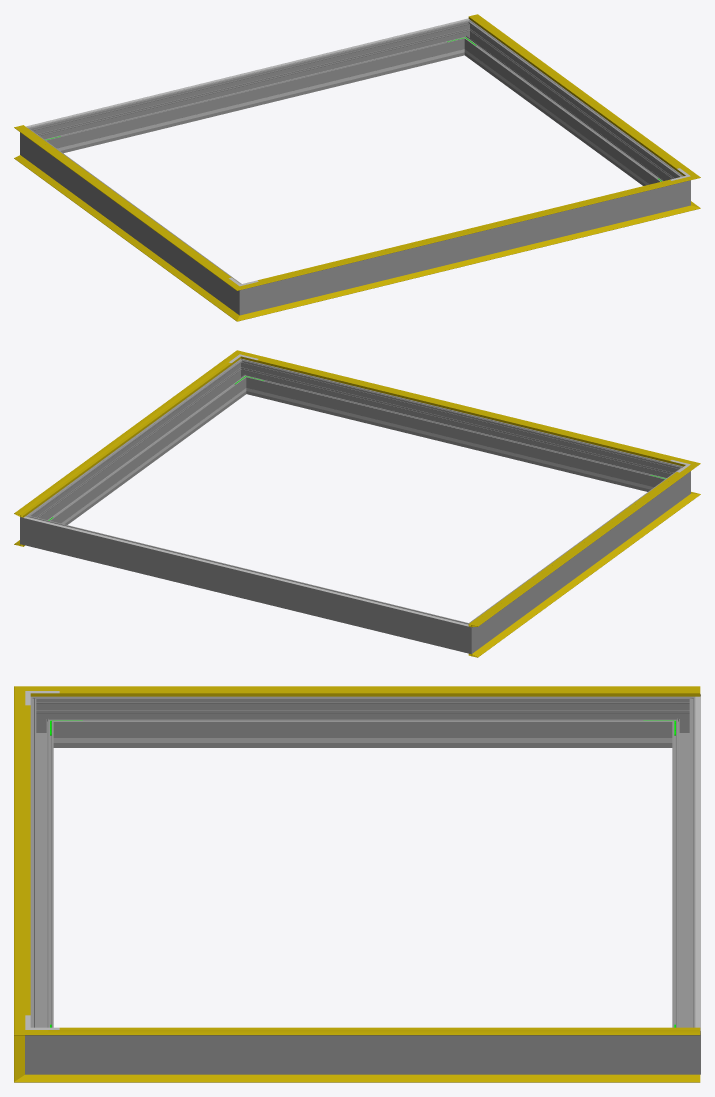
3 views of the same model, one above another, from view 1: azimuth 30°, elevation 25°; view 2: azimuth 150°, elevation 25°; view 3: azimuth 270°, elevation 25° (orthographic). The views are drawn at different scales.
Visible parts, largest first — view 1: 3DGeom-276, 3DGeom-298, 3DGeom-297, 3DGeom-268, 3DGeom-28, 3DGeom-145, 3DGeom-141, 3DGeom-38, 3DGeom-147, 3DGeom-244, 3DGeom-220, 3DGeom-158 (+6 smaller); view 2: 3DGeom-298, 3DGeom-276, 3DGeom-297, 3DGeom-268, 3DGeom-141, 3DGeom-145, 3DGeom-38, 3DGeom-147, 3DGeom-239, 3DGeom-220, 3DGeom-158, 3DGeom-278 (+5 smaller); view 3: 3DGeom-268, 3DGeom-297, 3DGeom-298, 3DGeom-276, 3DGeom-147, 3DGeom-30, 3DGeom-145, 3DGeom-141, 3DGeom-232, 3DGeom-220, 3DGeom-152, 3DGeom-154 (+5 smaller).
Part boxes in pixels (x1,y1,x2,y2): 3DGeom-276: [41, 24, 461, 153]; 3DGeom-298: [259, 185, 671, 310]; 3DGeom-297: [466, 26, 676, 185]; 3DGeom-268: [31, 134, 234, 307]; 3DGeom-28: [253, 208, 681, 316]; 3DGeom-145: [468, 14, 689, 173]; 3DGeom-141: [253, 179, 681, 286]; 3DGeom-38: [14, 155, 231, 313]; 3DGeom-147: [14, 126, 231, 282]; 3DGeom-244: [64, 53, 445, 149]; 3DGeom-220: [26, 18, 469, 127]; 3DGeom-158: [257, 179, 670, 281]; 3DGeom-298: [249, 362, 669, 491]; 3DGeom-276: [39, 519, 455, 649]; 3DGeom-297: [34, 365, 244, 524]; 3DGeom-268: [476, 473, 679, 645]; 3DGeom-141: [251, 355, 680, 464]; 3DGeom-145: [14, 358, 235, 517]; 3DGeom-38: [468, 499, 689, 657]; 3DGeom-147: [468, 470, 689, 627]; 3DGeom-239: [265, 392, 646, 488]; 3DGeom-220: [23, 516, 468, 626]; 3DGeom-158: [257, 359, 671, 460]; 3DGeom-278: [452, 617, 482, 654]; 3DGeom-268: [59, 696, 666, 747]; 3DGeom-297: [59, 1035, 666, 1074]; 3DGeom-298: [30, 708, 53, 1027]; 3DGeom-276: [672, 708, 695, 1027]; 3DGeom-147: [48, 686, 700, 696]; 3DGeom-30: [48, 1074, 700, 1082]; 3DGeom-145: [48, 1030, 700, 1035]; 3DGeom-141: [14, 700, 25, 1019]; 3DGeom-232: [87, 738, 639, 742]; 3DGeom-220: [695, 696, 700, 1031]; 3DGeom-152: [59, 1027, 700, 1029]; 3DGeom-154: [59, 691, 700, 693].
Bounding box in the file's own units: 3.66 × 0.2357 × 3.05.
